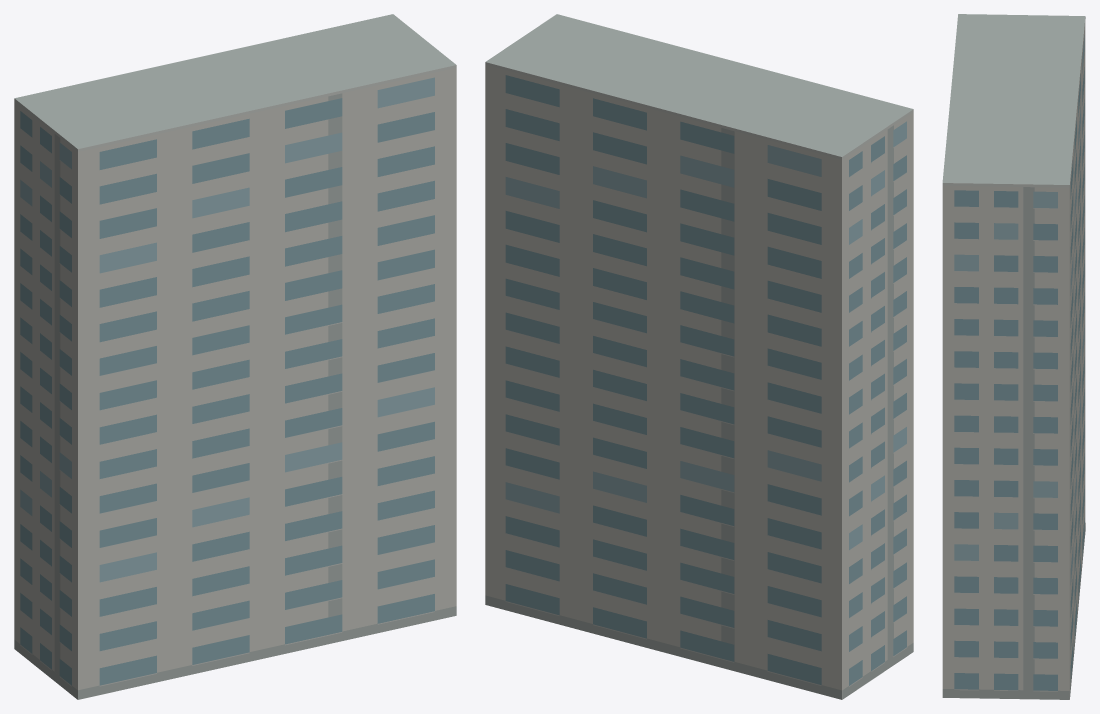
File: residential-f1d4afe6-6f18-439a-bf46-b50a75b1b0c5.glb
3 views of the same model, side by side, from view 1: azimuth 30°, elevation 25°; view 2: azimuth 150°, elevation 25°; view 3: azimuth 270°, elevation 25° (orthographic). The views are drawn at different scales.
Parts seen in each view (by area): view 1: residential-f1d4afe6-6f18-439a-bf46-b50a75b1b0c5.tmp; view 2: residential-f1d4afe6-6f18-439a-bf46-b50a75b1b0c5.tmp; view 3: residential-f1d4afe6-6f18-439a-bf46-b50a75b1b0c5.tmp.
Boxes of the visible parts, x1,y1,x2,y2 form: residential-f1d4afe6-6f18-439a-bf46-b50a75b1b0c5.tmp: [14, 14, 456, 699]; residential-f1d4afe6-6f18-439a-bf46-b50a75b1b0c5.tmp: [485, 14, 913, 699]; residential-f1d4afe6-6f18-439a-bf46-b50a75b1b0c5.tmp: [942, 14, 1085, 699].
Size of the model in its own units: 32.79 by 46 by 11.59.
